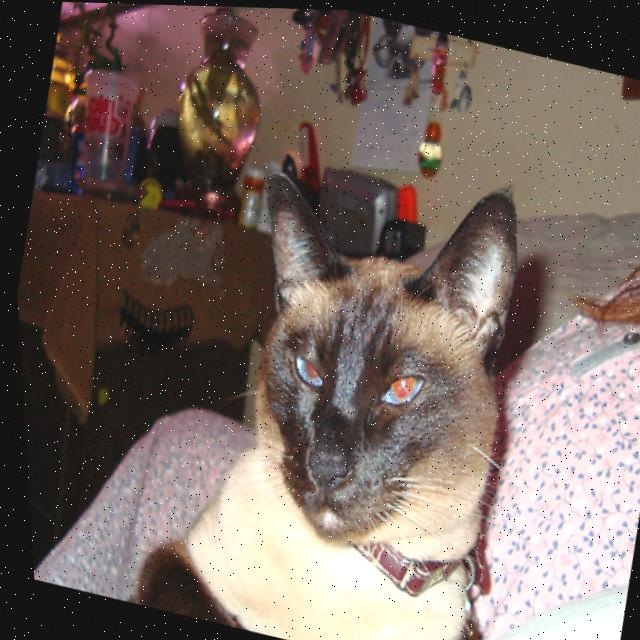Siamese: (79, 97, 562, 640)
